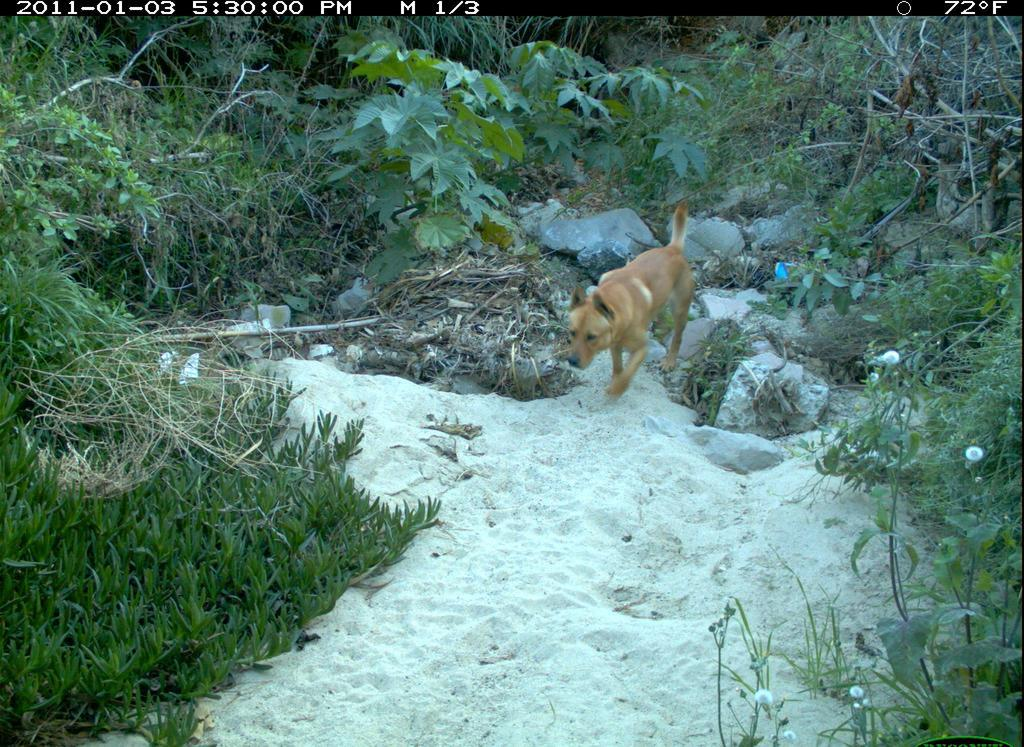dog: (560, 190, 711, 433)
